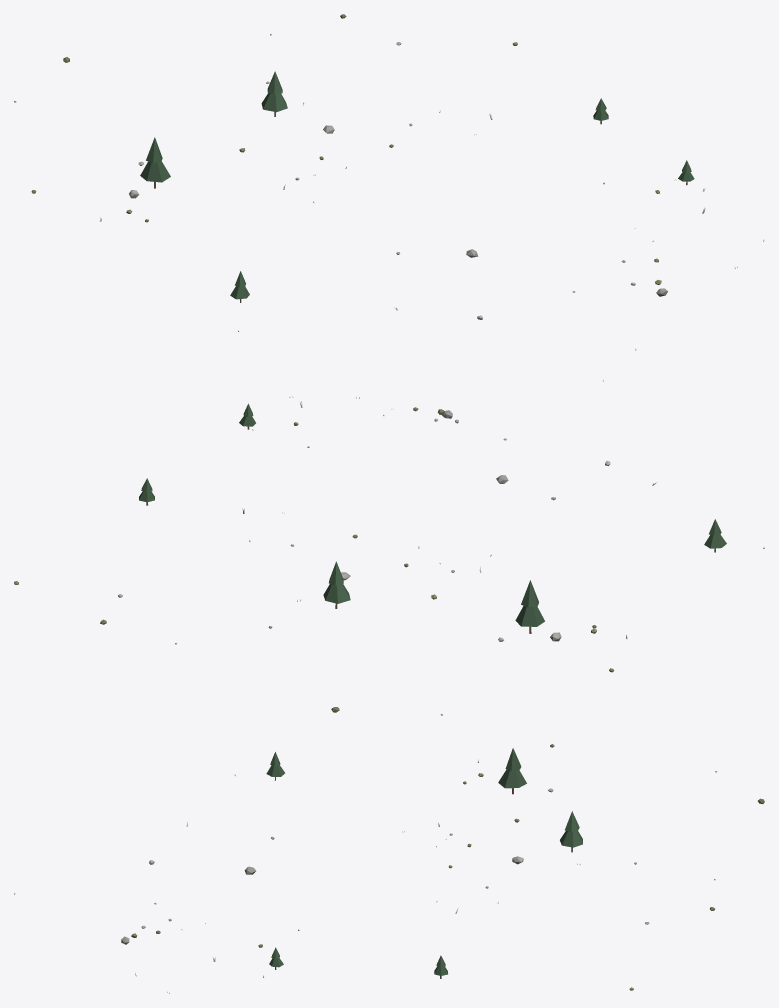
File: coast_land_scatter_c09_19_lod1.glb
3 renders of one model, top to bottom at view 1: azimuth 30°, elevation 25°; view 2: azimuth 150°, elevation 25°; view 3: azimuth 270°, elevation 25°, orthographic. The views are drawn at different scales.
Visible parts, largest first — view 1: coast_land_scatter_c09_19_lod1; view 2: coast_land_scatter_c09_19_lod1; view 3: coast_land_scatter_c09_19_lod1.
Boxes of the visible parts, x1,y1,x2,y2 form: coast_land_scatter_c09_19_lod1: (14,14,764,350); coast_land_scatter_c09_19_lod1: (14,380,764,715); coast_land_scatter_c09_19_lod1: (14,744,764,993).
Bounding box in the file's own units: 179 × 25.3 × 243.
